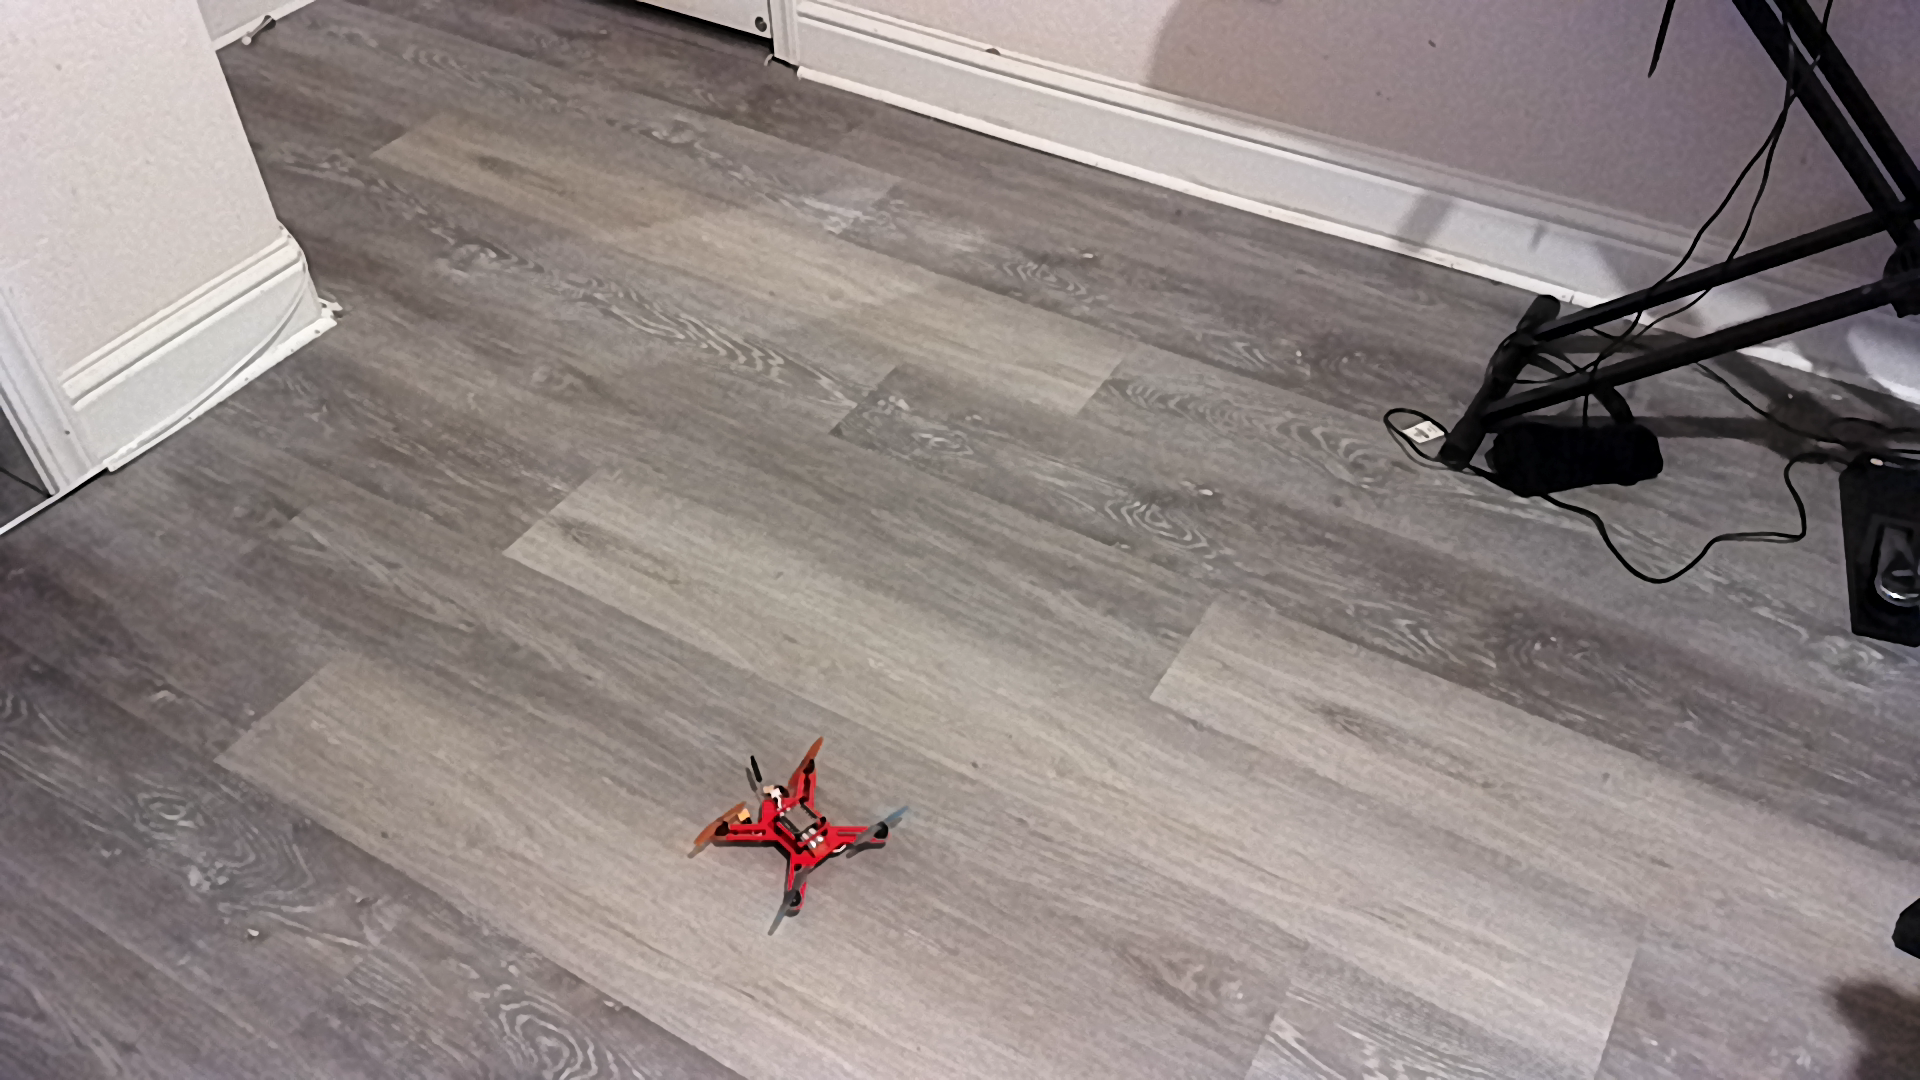drone: (690, 735, 922, 938)
